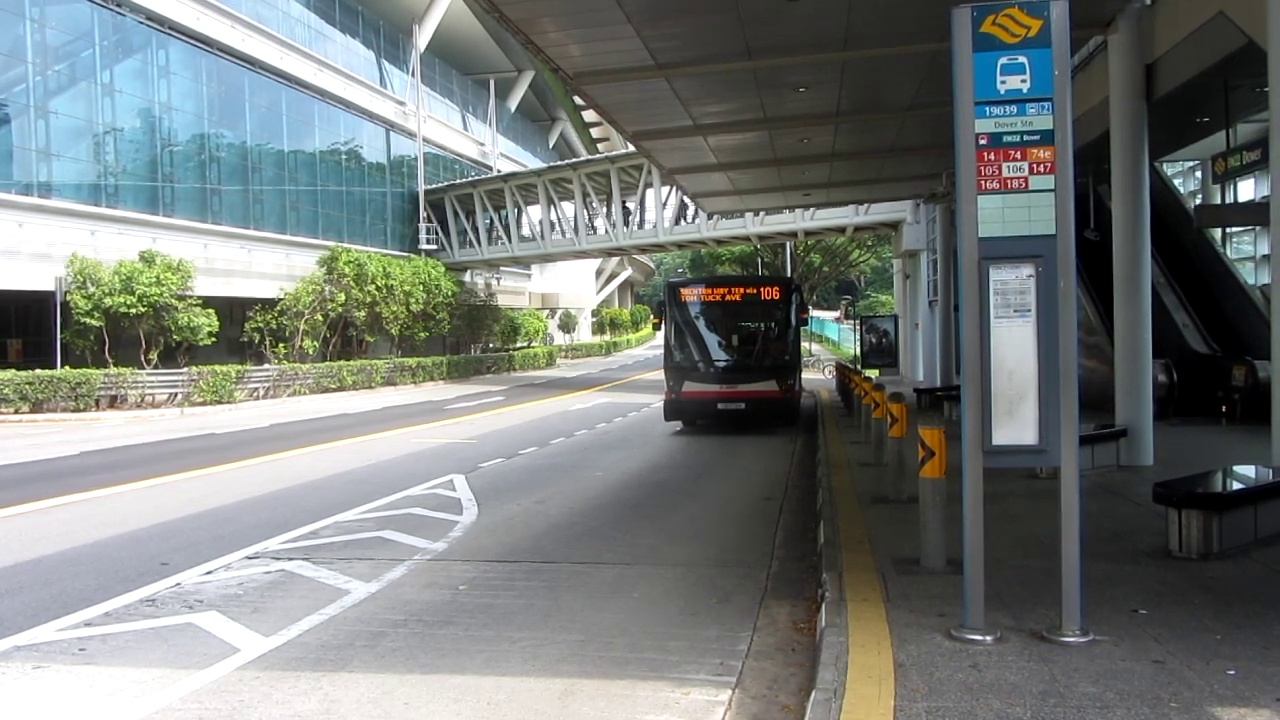bus panel: (676, 285, 784, 304)
